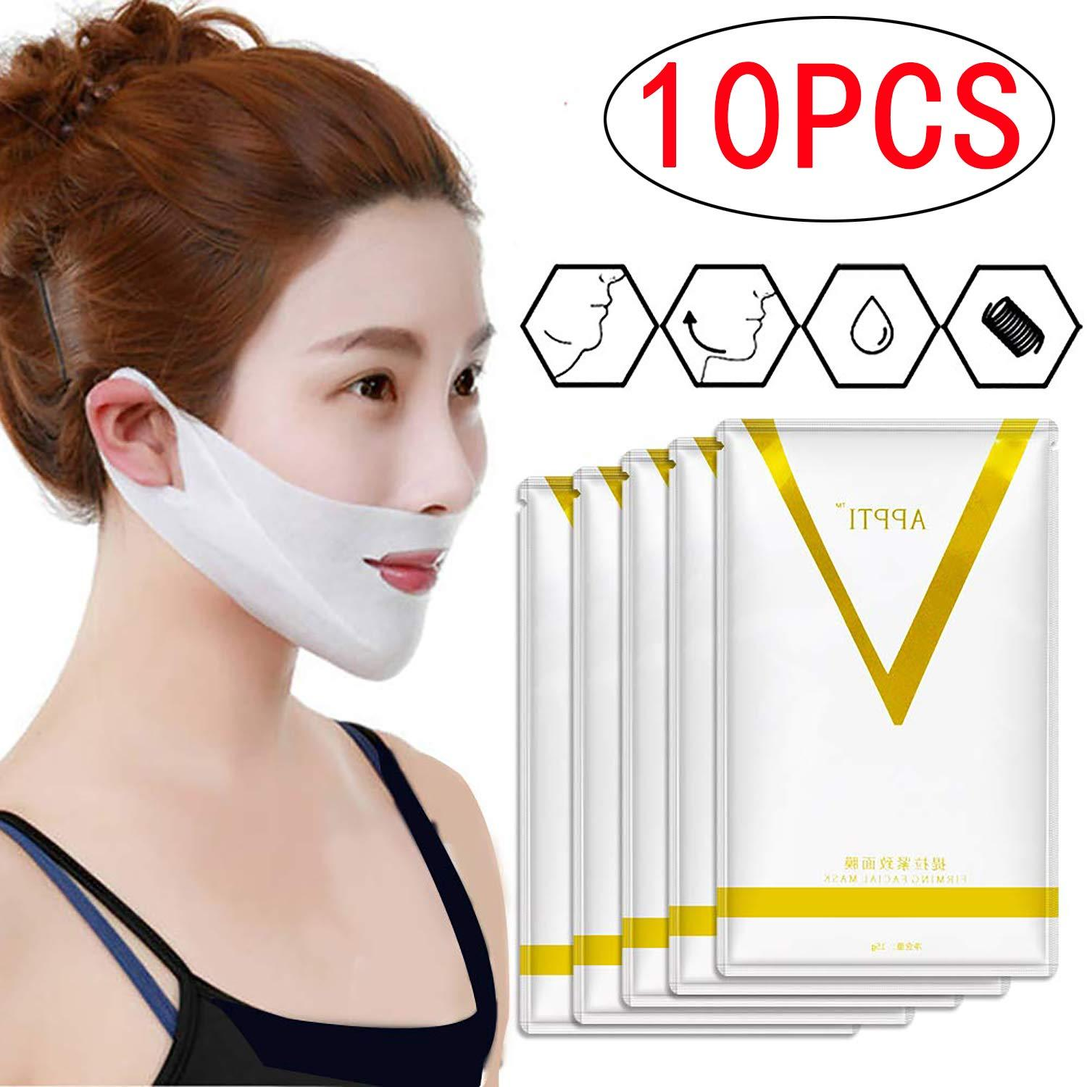Wore Mask Incorrectly: (0, 5, 516, 727)
